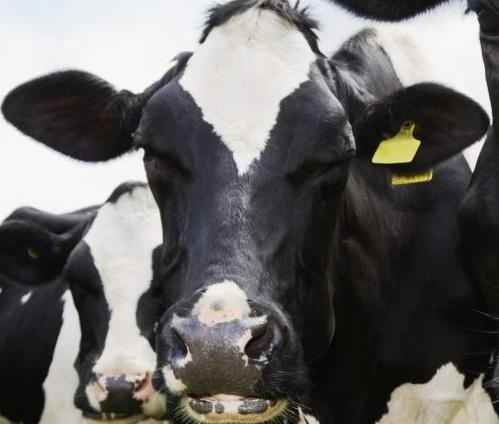muzzles: (150, 298, 313, 424)
